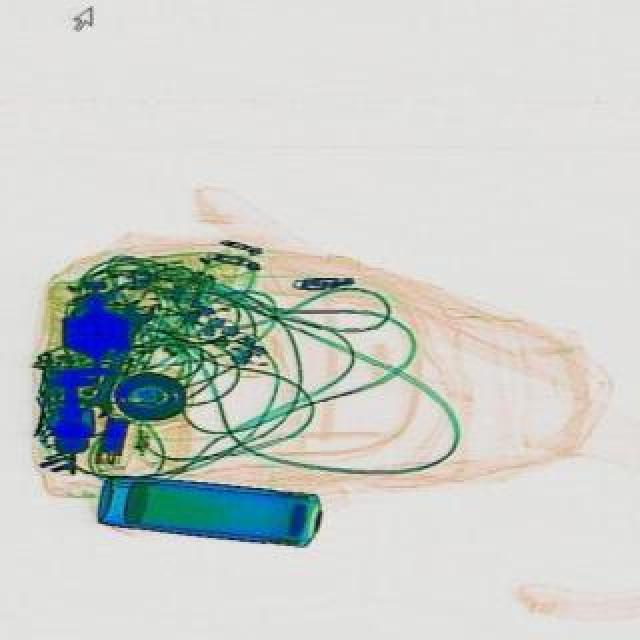scissors: (84, 294, 166, 420)
